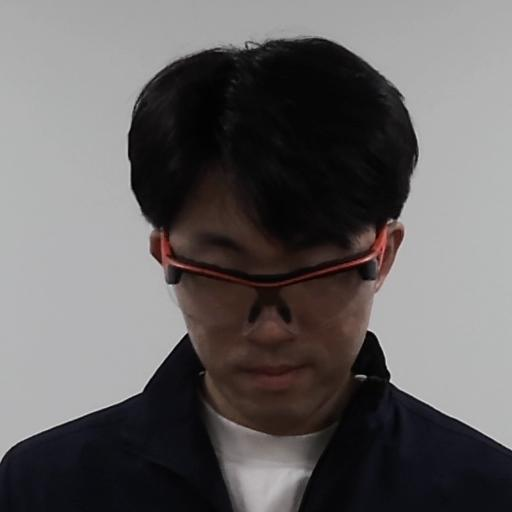glasses: (114, 37, 424, 412)
